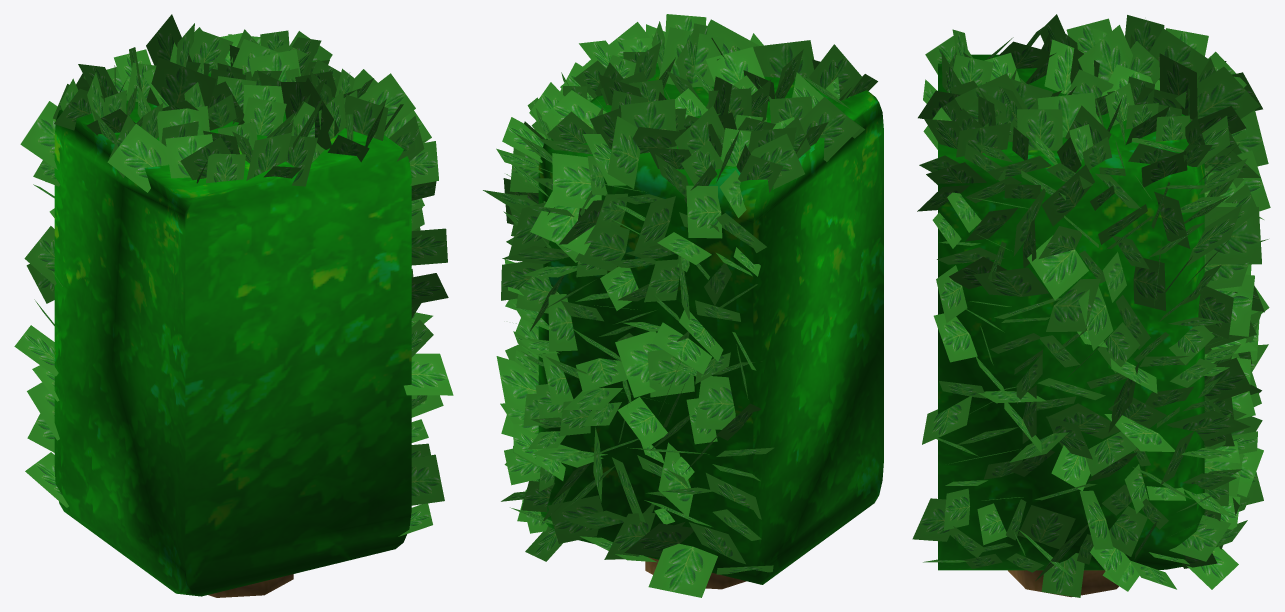
Rendered from sb_obj_outdoor012_Hedge01d.fbx.
3 views of the same model, side by side, from view 1: azimuth 30°, elevation 25°; view 2: azimuth 150°, elevation 25°; view 3: azimuth 270°, elevation 25° (orthographic). The views are drawn at different scales.
Parts seen in each view (by area): view 1: sb_obj_outdoor012_Hedge01d, leaf_plus_d; view 2: leaf_plus_d, sb_obj_outdoor012_Hedge01d; view 3: leaf_plus_d, sb_obj_outdoor012_Hedge01d.
Boxes of the visible parts, left/top/right/bottom form: sb_obj_outdoor012_Hedge01d: left=54, top=73, right=411, bottom=597; leaf_plus_d: left=14, top=14, right=453, bottom=536; leaf_plus_d: left=483, top=14, right=877, bottom=597; sb_obj_outdoor012_Hedge01d: left=538, top=63, right=883, bottom=589; leaf_plus_d: left=912, top=14, right=1270, bottom=597; sb_obj_outdoor012_Hedge01d: left=938, top=54, right=1204, bottom=597.
Bounding box in the file's own units: 1.39 × 2.15 × 1.34.
